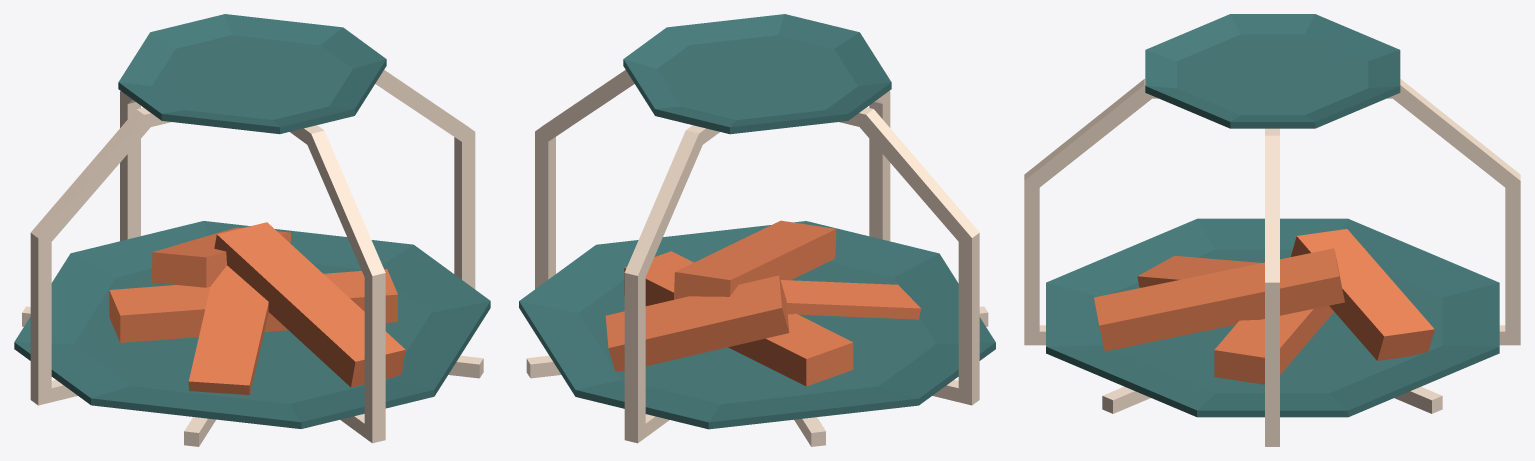
Rendered from GrillSimple.fbx.
The picture shows the model from 3 angles, left to right: view 1: azimuth 30°, elevation 25°; view 2: azimuth 150°, elevation 25°; view 3: azimuth 270°, elevation 25°; orthographic projection.
Visible parts, largest first — view 1: Grill_Geo, Grill_Wood_Geo; view 2: Grill_Geo, Grill_Wood_Geo; view 3: Grill_Geo, Grill_Wood_Geo.
Boxes of the visible parts, x1,y1,x2,y2 form: Grill_Geo: (14, 14, 490, 446); Grill_Wood_Geo: (109, 222, 405, 394); Grill_Geo: (519, 14, 995, 446); Grill_Wood_Geo: (605, 220, 921, 386); Grill_Geo: (1024, 14, 1520, 446); Grill_Wood_Geo: (1094, 229, 1434, 384).
Size of the model in its own units: 0.82 by 0.5 by 0.82.
